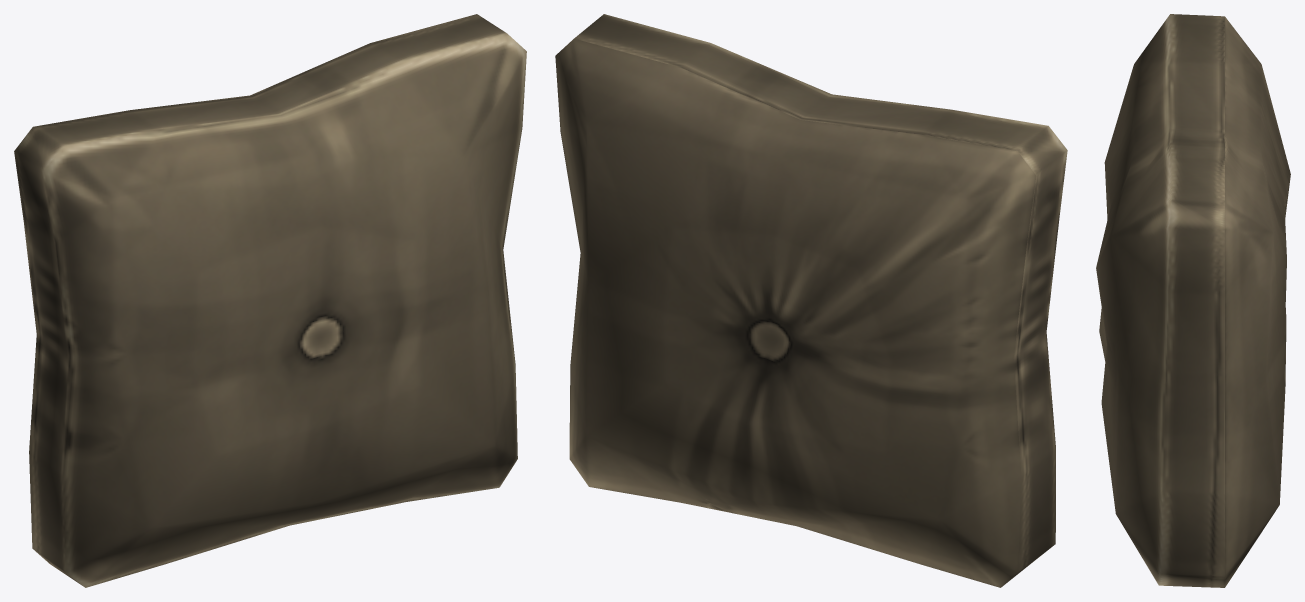
File: Bed02Pillow02.FBX
The picture shows the model from 3 angles, left to right: view 1: azimuth 30°, elevation 25°; view 2: azimuth 150°, elevation 25°; view 3: azimuth 270°, elevation 25°; orthographic projection. The views are drawn at different scales.
Parts seen in each view (by area): view 1: Bed02Pillow02; view 2: Bed02Pillow02; view 3: Bed02Pillow02.
Boxes of the visible parts, x1,y1,x2,y2 form: Bed02Pillow02: (14,14,526,587); Bed02Pillow02: (555,14,1067,587); Bed02Pillow02: (1096,14,1290,587).
Bounding box in the file's own units: 57.25 × 22.82 × 50.93.
